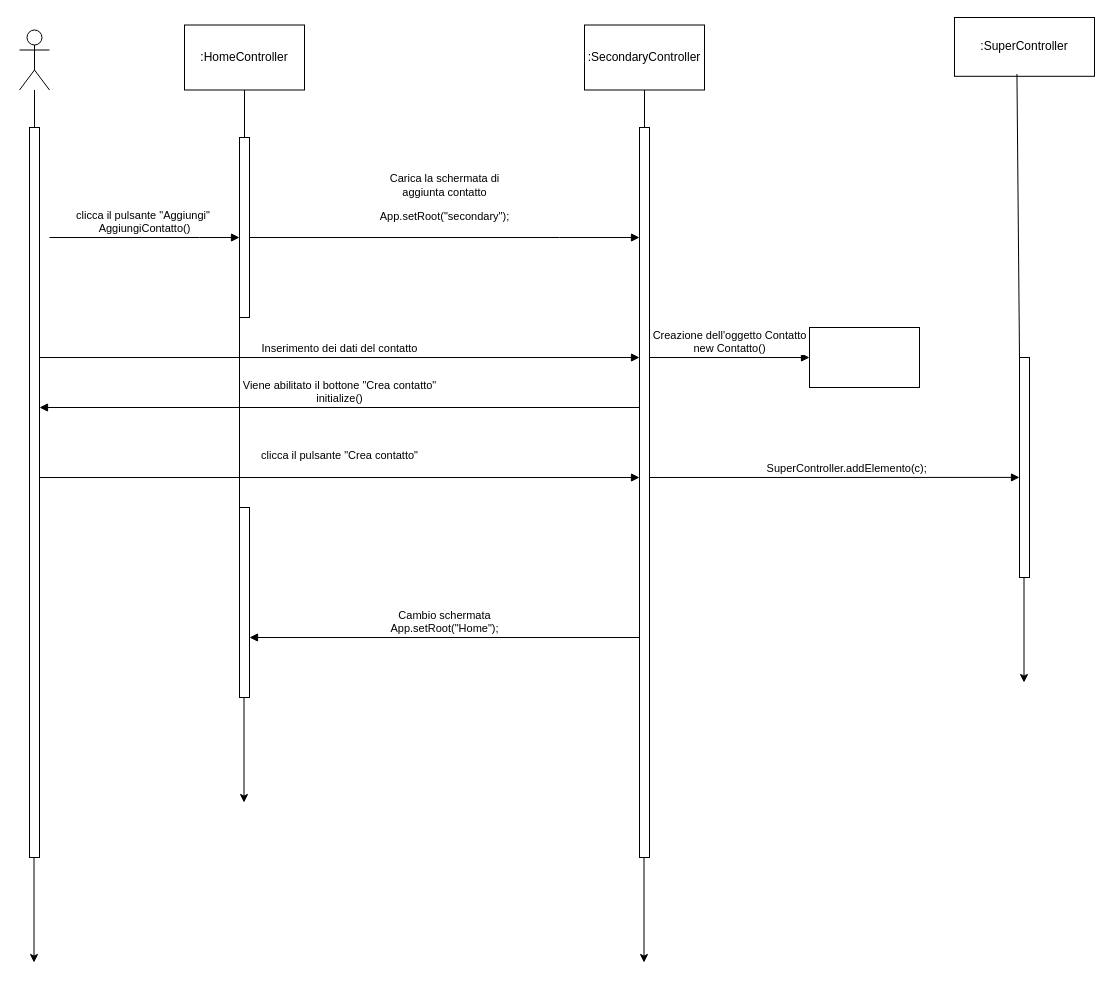
Some shapes in this 1112 by 988 pixel diagram are drawn without their labels. The centre of each missing label's shape, as x and y in pixels:
":Contatto" goes at pixel 864 357.
"Utente" goes at pixel 34 59.
